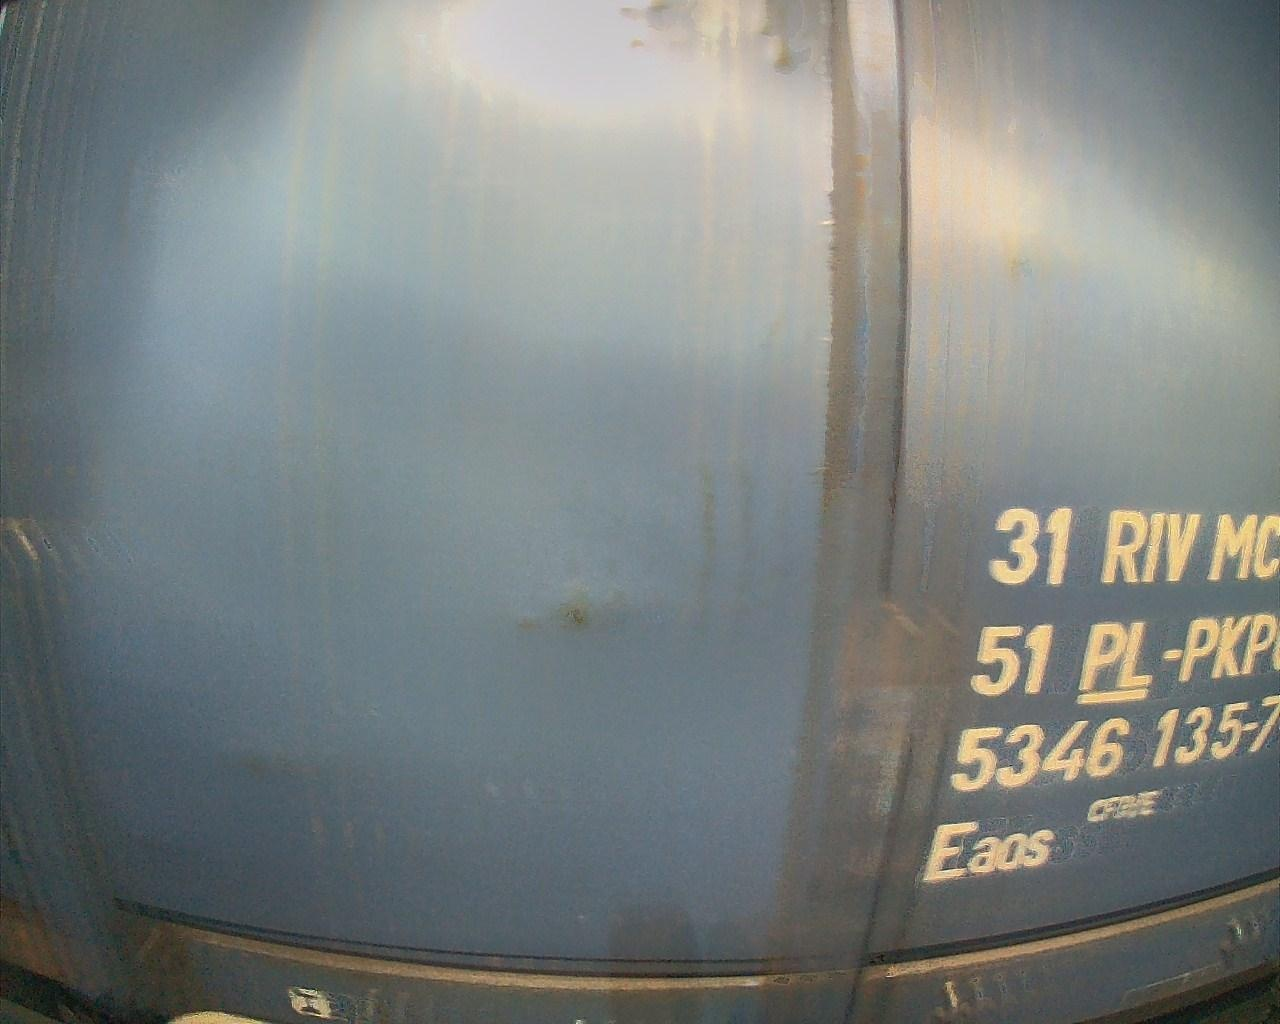UIC: (915, 501, 1280, 887)
